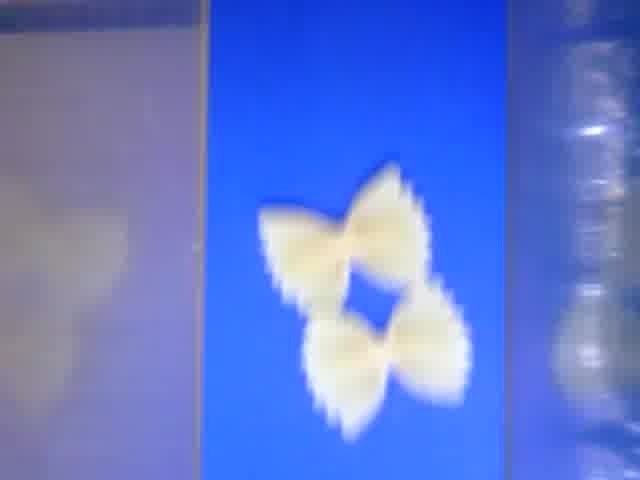farfalle: (256, 160, 433, 317), (303, 279, 473, 438)
